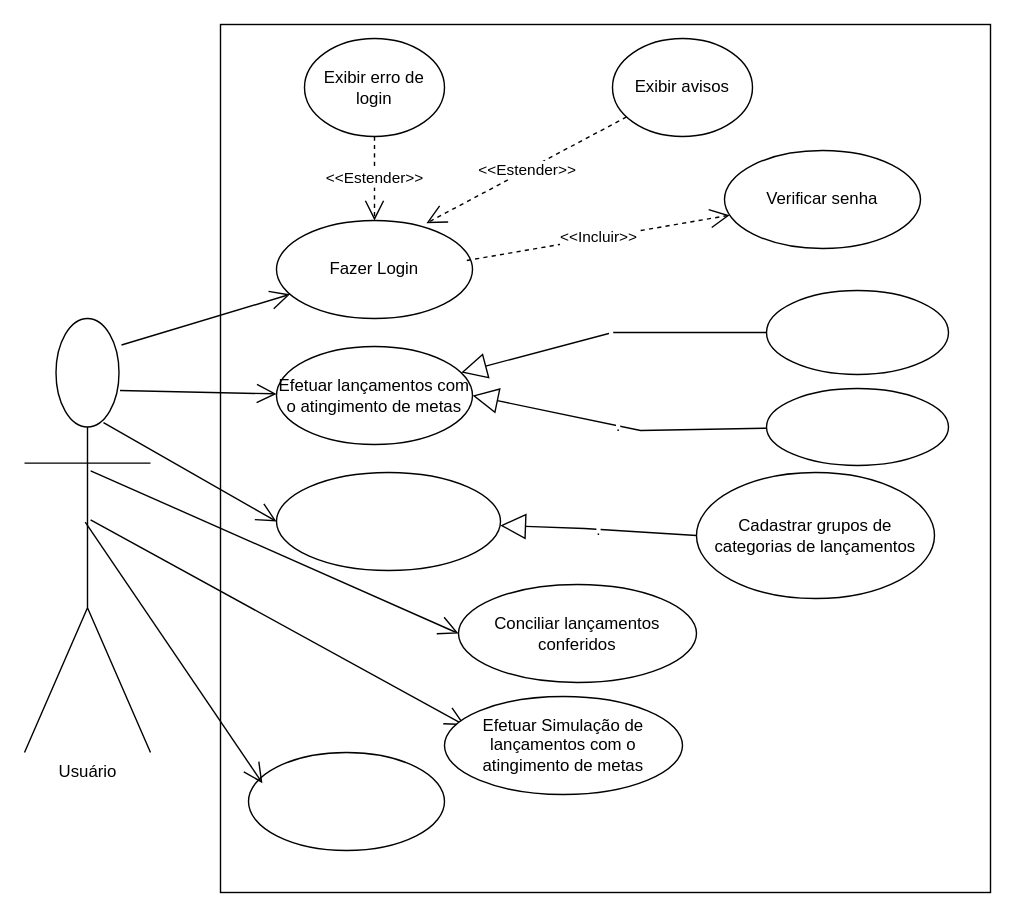
Some shapes in this 1015 by 917 pixel diagram are drawn without their labels. The centre of each missing label's shape, as x and y in pixels:
"Cadastrar categorias de lançamentos" belongs at point 387,520.
"Efetuar lançamentos Crédito" belongs at point 856,426.
"Efetuar lançamentos Débito" belongs at point 856,331.
"Emitir relatórios" belongs at point 345,800.
